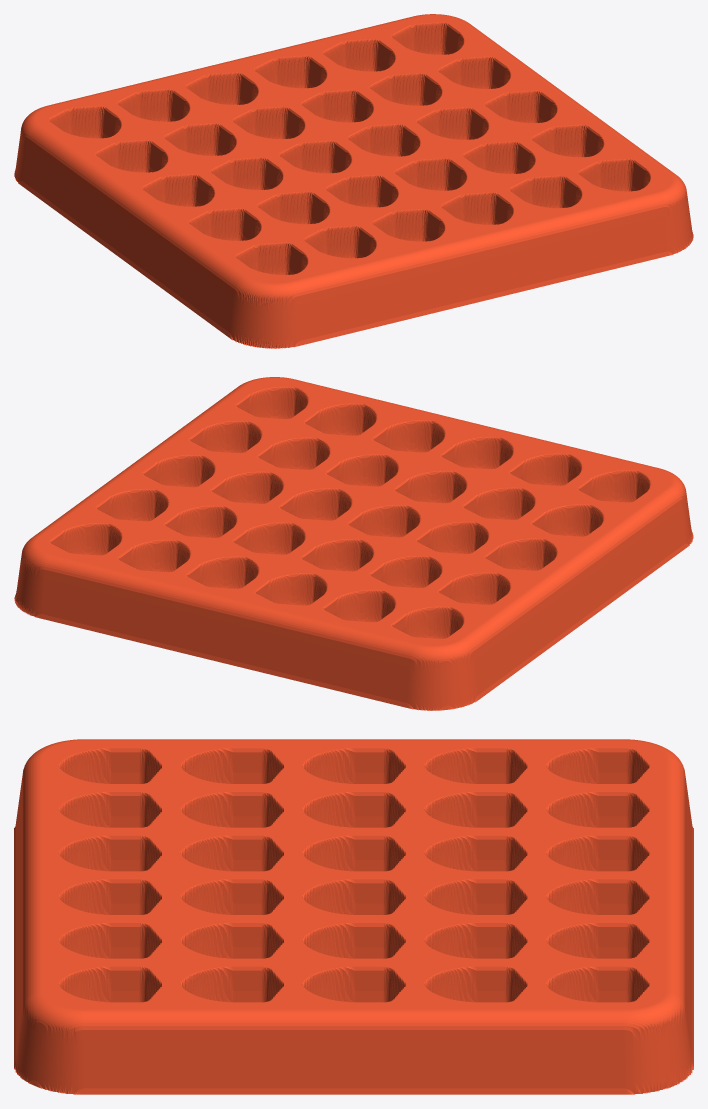
File: mold.glb
The picture shows the model from 3 angles, top to bottom: view 1: azimuth 30°, elevation 25°; view 2: azimuth 150°, elevation 25°; view 3: azimuth 270°, elevation 25°; orthographic projection. The views are drawn at different scales.
Parts seen in each view (by area): view 1: geometry_0; view 2: geometry_0; view 3: geometry_0.
Part boxes in pixels (x1=…): geometry_0: x1=14, y1=14, x2=693, y2=348; geometry_0: x1=14, y1=377, x2=693, y2=710; geometry_0: x1=14, y1=739, x2=693, y2=1094.
Bounding box in the file's own units: 0.0896 × 0.0105 × 0.0882.
